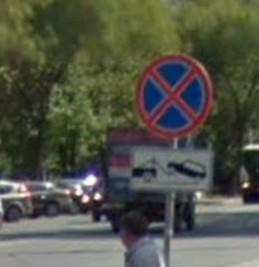No Parking: (135, 55, 214, 140)
